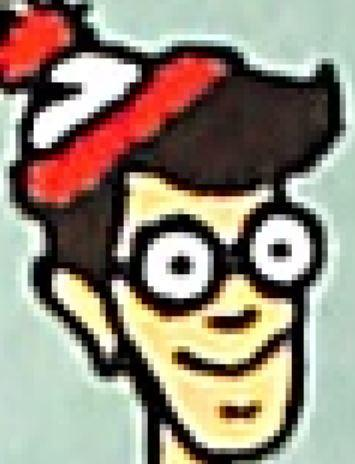waldos: (2, 1, 344, 461)
